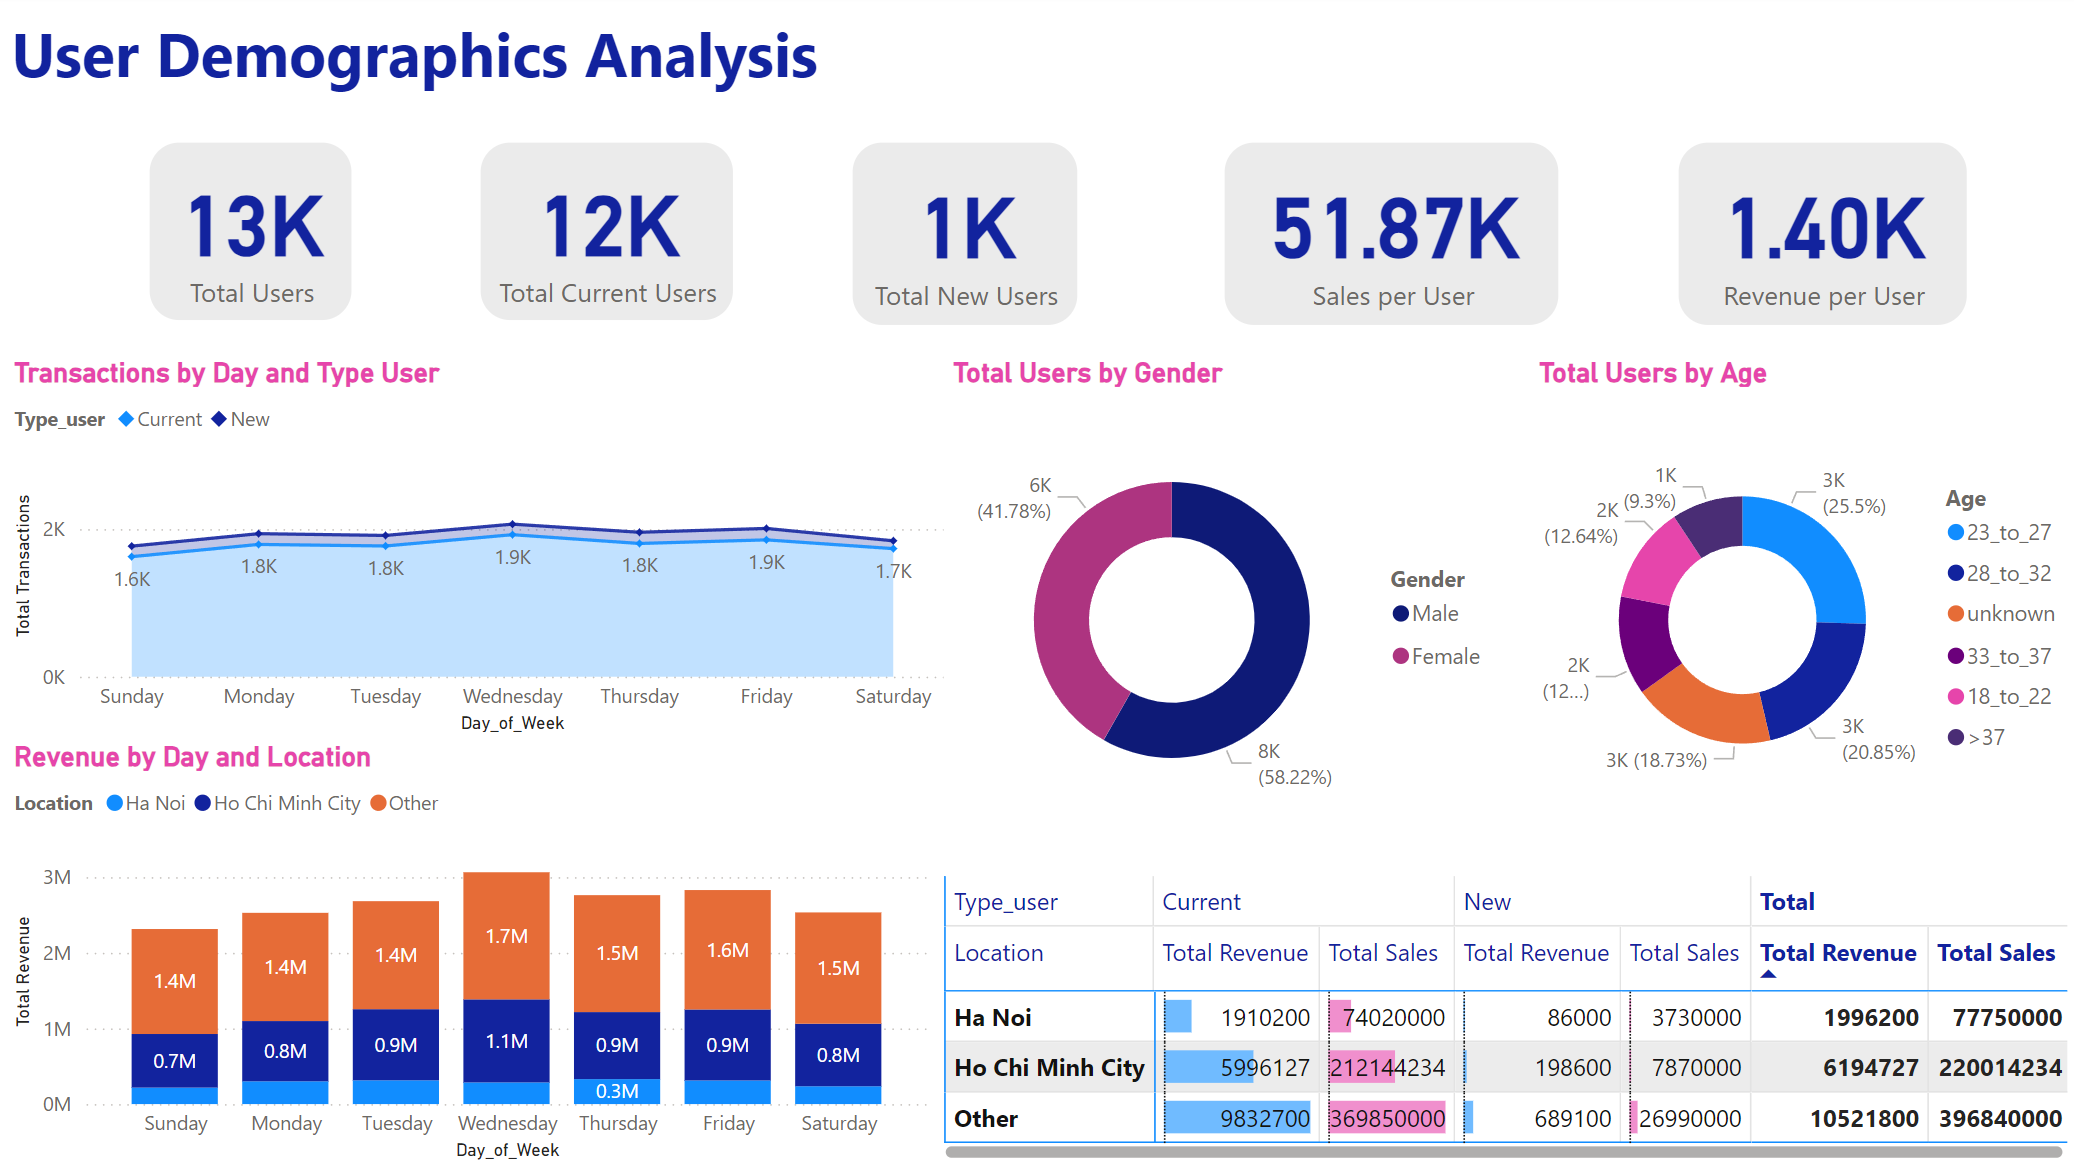

This screenshot's page, from the dashboard's own definition file:
{"tool":"powerbi","page":{"name":"PartB_Slide2","canvas":[1280,720],"ordinal":1},"visuals":[{"type":"pivotTable","fields":{"Rows":["Data Transactions.Location"],"Columns":["Data Transactions.Type_user"],"Values":["_Measure.Total Revenue","_Measure.Total Sales"]},"box":[578,536,700,184],"z":0},{"type":"stackedAreaChart","title":"Transactions by Day and Type User","fields":{"Y":["_Measure.Total Transactions"],"Category":["Data Transactions.Day_of_Week"],"Series":["Data Transactions.Type_user"]},"box":[6.7,221.3,581.3,236],"z":1000},{"type":"textbox","box":[141.3,4.7,956.7,84.7],"z":2000},{"type":"card","fields":{"Values":["_Measure.Total Custmer"]},"box":[94,89.3,126,110.7],"z":3000},{"type":"image","box":[0,0,98.7,98],"z":4000},{"type":"card","fields":{"Values":["_Measure.Total New Users"]},"box":[526,89.3,140,114],"z":5000},{"type":"card","fields":{"Values":["_Measure.Total Current Users"]},"box":[297.3,89.3,156.7,111.3],"z":6000},{"type":"card","fields":{"Values":["_Measure.Sales per User"]},"box":[754.7,89.3,207.3,114],"z":7000},{"type":"card","fields":{"Values":["_Measure.Average Revenue per User"]},"box":[1033.3,89.3,178.7,114],"z":8000},{"type":"columnChart","title":"Revenue by Day and Location","fields":{"Y":["_Measure.Total Revenue"],"Category":["Data Transactions.Day_of_Week"],"Series":["Data Transactions.Location"]},"box":[6.7,457.3,571.3,262.7],"z":9000},{"type":"donutChart","fields":{"Category":["Data Transactions.Gender"],"Y":["_Measure.Total Users"]},"box":[583.3,221.3,344.7,305.3],"z":10000},{"type":"donutChart","fields":{"Category":["Data Transactions.Age"],"Y":["_Measure.Total Users"]},"box":[943.3,221.3,336.7,305.3],"z":11000},{"type":"image","box":[73.3,0,84,83.3],"z":12000}]}

Visuals, with their boxes in screenshot pixels (x1, y1, x2, y2), scaled from the page's 1280x720 canvas onto the 2074x1161 screenshot:
pivotTable - Data Transactions.Location x Data Transactions.Type_user: [x1=937, y1=864, x2=2071, y2=1160]
"Transactions by Day and Type User" stackedAreaChart: [x1=11, y1=357, x2=953, y2=737]
textbox: [x1=229, y1=8, x2=1779, y2=144]
card - _Measure.Total Custmer: [x1=152, y1=144, x2=356, y2=322]
image: [x1=0, y1=0, x2=160, y2=158]
card - _Measure.Total New Users: [x1=852, y1=144, x2=1079, y2=328]
card - _Measure.Total Current Users: [x1=482, y1=144, x2=736, y2=323]
card - _Measure.Sales per User: [x1=1223, y1=144, x2=1559, y2=328]
card - _Measure.Average Revenue per User: [x1=1674, y1=144, x2=1964, y2=328]
"Revenue by Day and Location" columnChart: [x1=11, y1=737, x2=937, y2=1160]
donutChart - Data Transactions.Gender x _Measure.Total Users: [x1=945, y1=357, x2=1504, y2=849]
donutChart - Data Transactions.Age x _Measure.Total Users: [x1=1528, y1=357, x2=2073, y2=849]
image: [x1=119, y1=0, x2=255, y2=134]
